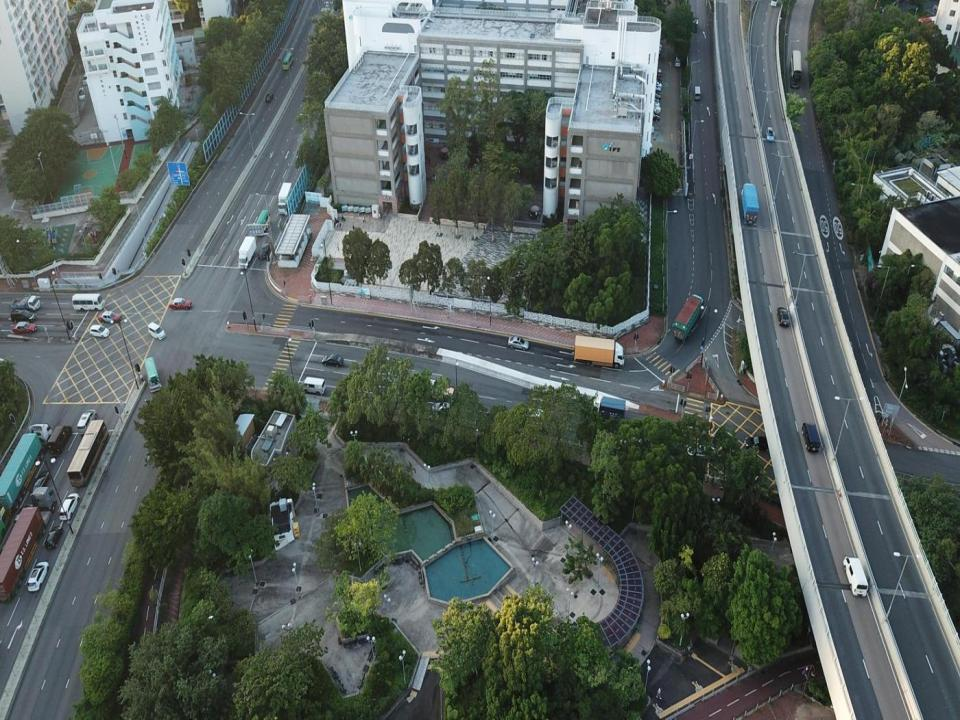bus: (67, 418, 109, 488), (143, 355, 162, 393), (71, 293, 104, 310), (789, 50, 802, 90), (254, 209, 271, 236), (282, 50, 293, 71)
car: (27, 561, 50, 593), (59, 492, 80, 520), (29, 470, 50, 498), (44, 524, 64, 551), (525, 409, 551, 428), (745, 436, 774, 451), (507, 334, 530, 352), (14, 503, 34, 522), (438, 386, 459, 403), (775, 306, 790, 326), (99, 311, 122, 324), (170, 298, 192, 311), (322, 354, 344, 367), (89, 325, 109, 339), (432, 402, 453, 414), (12, 322, 37, 332), (257, 243, 270, 260), (646, 104, 660, 113), (646, 112, 659, 121), (82, 71, 88, 86), (78, 88, 85, 100), (650, 81, 662, 88), (648, 86, 661, 92), (649, 43, 662, 49), (266, 92, 273, 103), (651, 72, 662, 79), (649, 50, 660, 57), (648, 100, 659, 106), (649, 93, 660, 99), (650, 46, 661, 52), (650, 78, 662, 83), (652, 68, 663, 73), (649, 97, 659, 102), (675, 56, 680, 66), (651, 110, 659, 114)
truck: (1, 486, 55, 603), (0, 423, 53, 514), (574, 335, 626, 369), (673, 293, 705, 342), (588, 395, 626, 420), (741, 182, 759, 224), (236, 235, 256, 269), (276, 182, 294, 214), (10, 293, 40, 311)
van: (843, 556, 869, 596), (47, 424, 72, 456), (802, 421, 820, 453), (76, 408, 96, 434), (299, 376, 326, 395), (147, 322, 166, 340), (10, 310, 35, 322), (694, 86, 700, 100)
